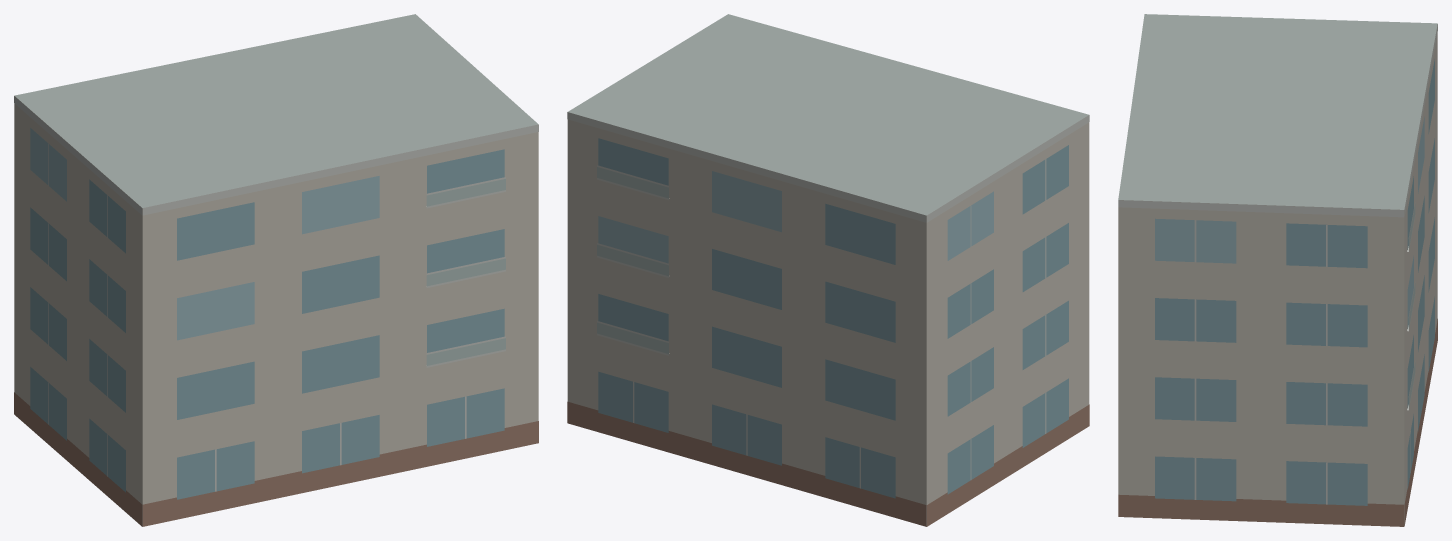
The model's file is survey-upis-32752848.glb.
The picture shows the model from 3 angles, left to right: view 1: azimuth 30°, elevation 25°; view 2: azimuth 150°, elevation 25°; view 3: azimuth 270°, elevation 25°; orthographic projection. The views are drawn at different scales.
Visible parts, largest first — view 1: survey-upis-32752848.tmp; view 2: survey-upis-32752848.tmp; view 3: survey-upis-32752848.tmp.
Boxes of the visible parts, x1,y1,x2,y2 form: survey-upis-32752848.tmp: (14, 14, 538, 526); survey-upis-32752848.tmp: (567, 14, 1089, 526); survey-upis-32752848.tmp: (1118, 14, 1437, 526).
Bounding box in the file's own units: 13.8 × 10.4 × 9.51.
